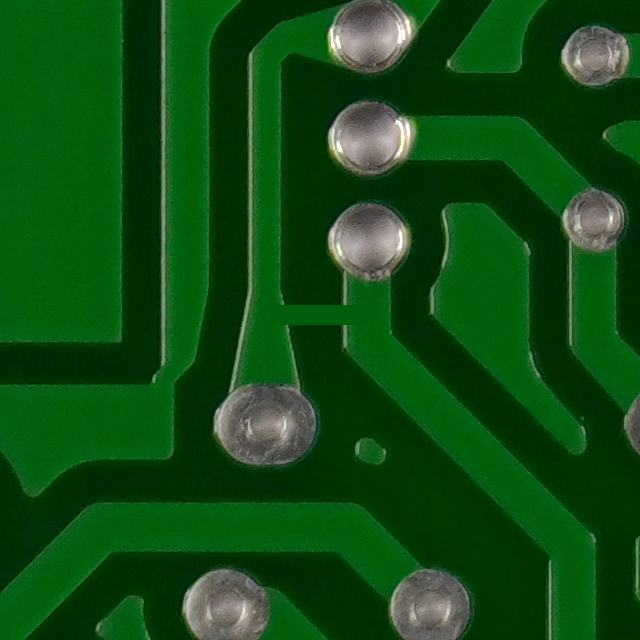short: (233, 266, 407, 375)
